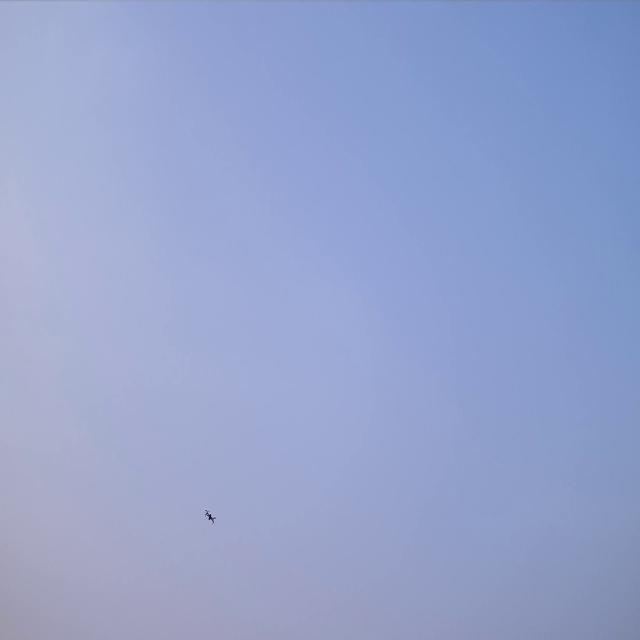UAV: (204, 509, 216, 525)
